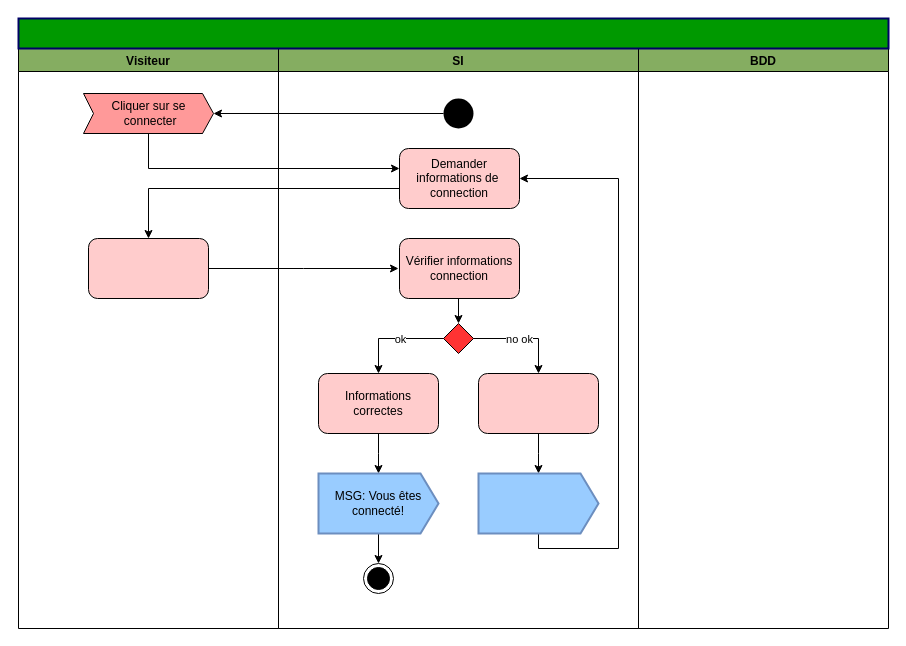
Some shapes in this 906 by 646 pixel diagram are drawn without their labels. Each missing label, with the centre of its shape:
"Informations incorrectes" belongs at (x=538, y=403).
"MSG: Les informations saisie sont incorrectes" belongs at (x=538, y=503).
"Saisir informations connection" belongs at (x=148, y=268).
"Se connecter" belongs at (x=453, y=33).
